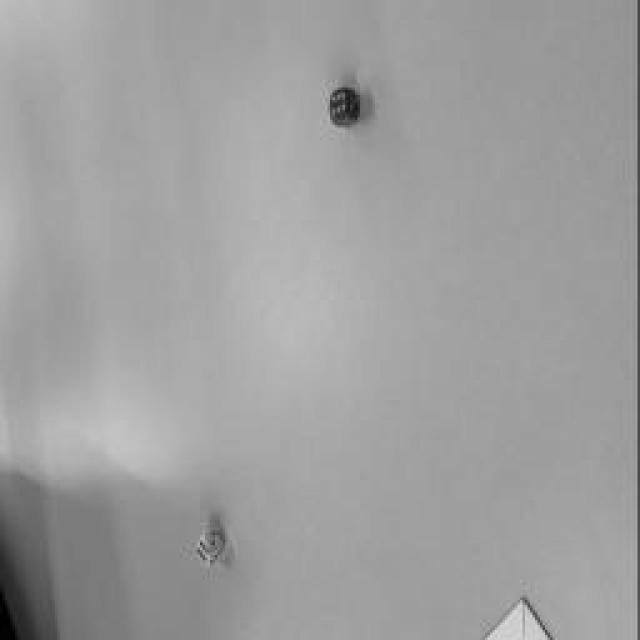dice_6: (331, 89, 349, 119), (198, 537, 212, 565)
